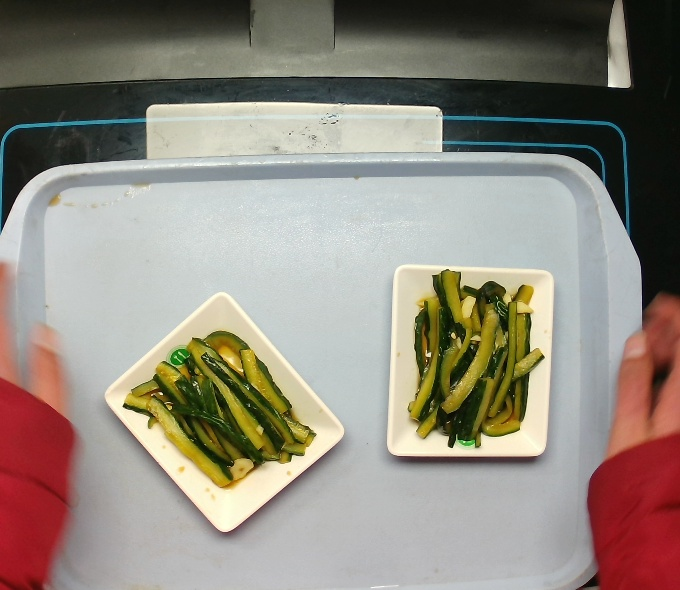wcq-LiangBanHuangGua: (121, 329, 317, 491), (407, 268, 544, 449)
